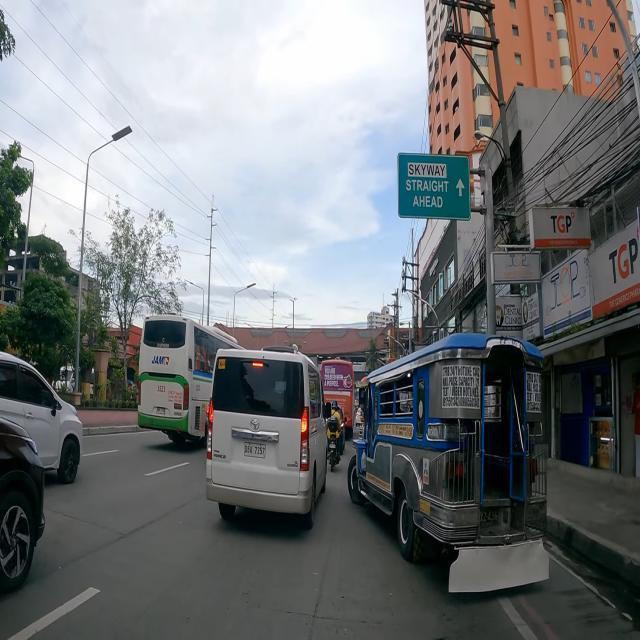bus: (138, 315, 244, 444), (320, 358, 355, 439)
car: (206, 348, 332, 528), (0, 352, 82, 483)
jeepney: (347, 333, 549, 592)
motorcycle: (327, 400, 342, 470)
